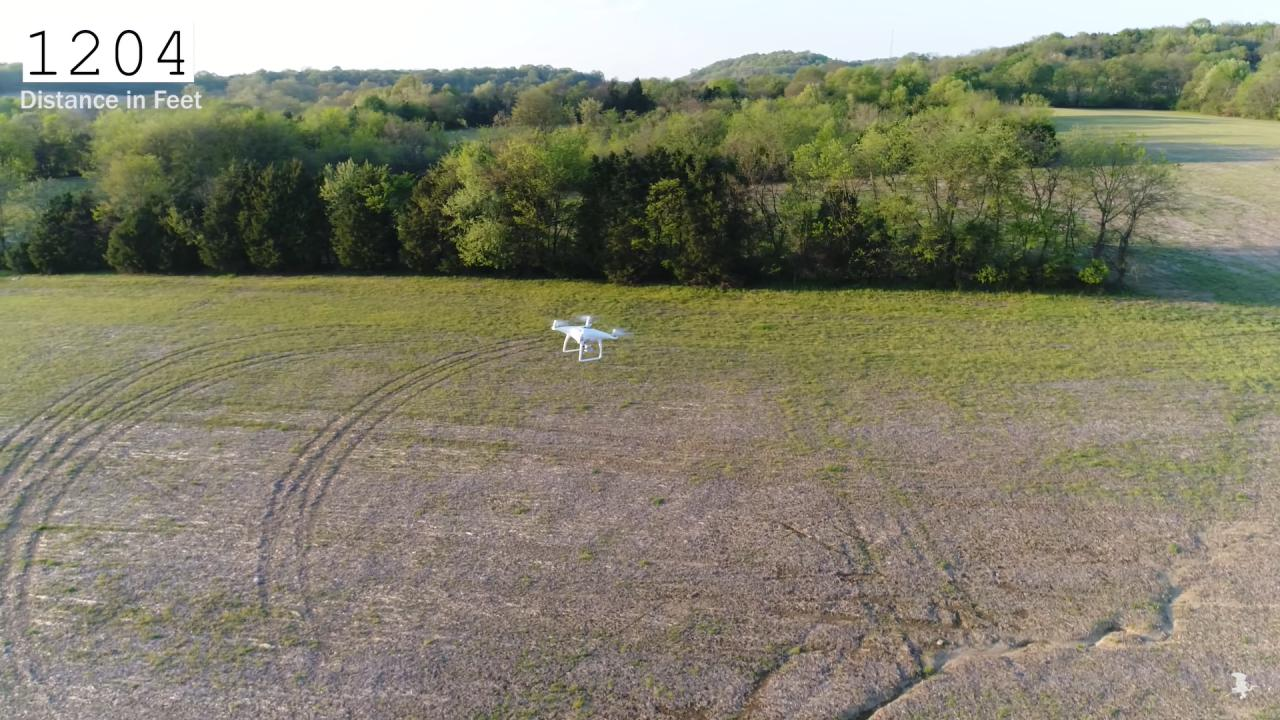Drone: (538, 303, 639, 373)
